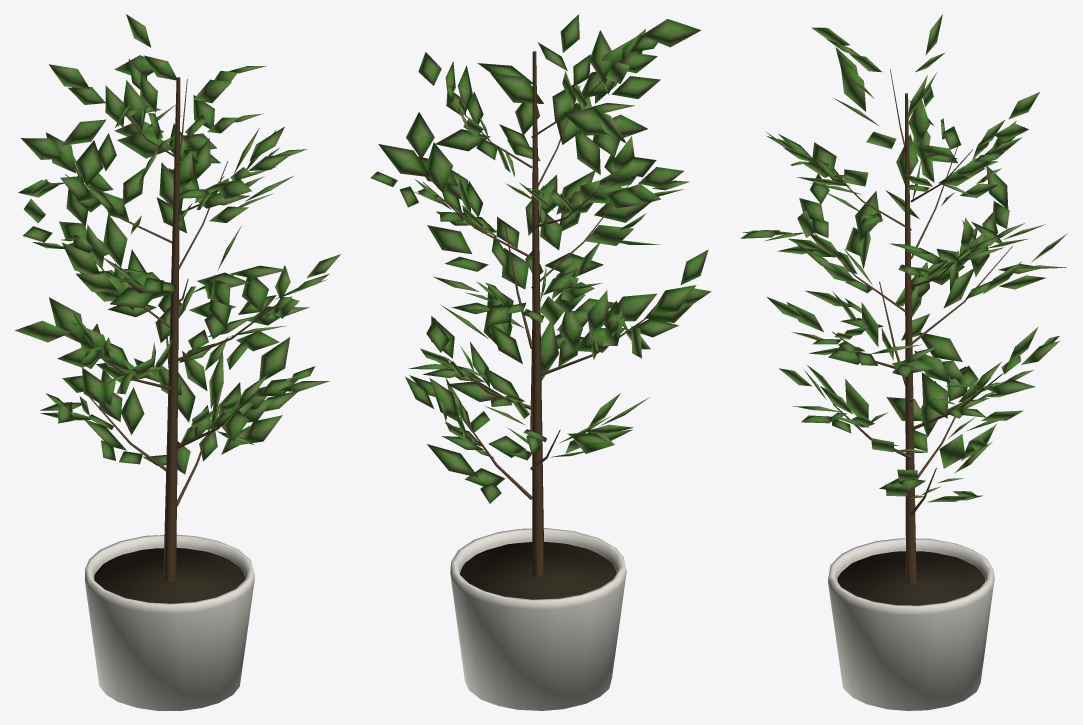
3 renders of one model, left to right at view 1: azimuth 30°, elevation 25°; view 2: azimuth 150°, elevation 25°; view 3: azimuth 270°, elevation 25°, orthographic. The views are drawn at different scales.
Parts seen in each view (by area): view 1: t10 browser / editable leafy twigs, t10 browser / independent ceramic pot, t10 browser / editable woody branches, t10 browser / potting soil; view 2: t10 browser / editable leafy twigs, t10 browser / independent ceramic pot, t10 browser / editable woody branches, t10 browser / potting soil; view 3: t10 browser / editable leafy twigs, t10 browser / independent ceramic pot, t10 browser / potting soil, t10 browser / editable woody branches.
Part boxes in pixels (x1,y1,x2,y2): t10 browser / editable leafy twigs: [15, 14, 340, 474]; t10 browser / independent ceramic pot: [84, 534, 254, 710]; t10 browser / editable woody branches: [65, 77, 276, 582]; t10 browser / potting soil: [94, 548, 245, 603]; t10 browser / editable leafy twigs: [370, 14, 711, 503]; t10 browser / independent ceramic pot: [450, 528, 626, 710]; t10 browser / editable woody branches: [423, 51, 650, 577]; t10 browser / potting soil: [460, 542, 616, 599]; t10 browser / editable leafy twigs: [740, 14, 1067, 502]; t10 browser / independent ceramic pot: [828, 538, 994, 710]; t10 browser / potting soil: [837, 551, 984, 605]; t10 browser / editable woody branches: [814, 69, 1012, 584].
Size of the model in its own units: 0.7805 by 1.72 by 0.828.
